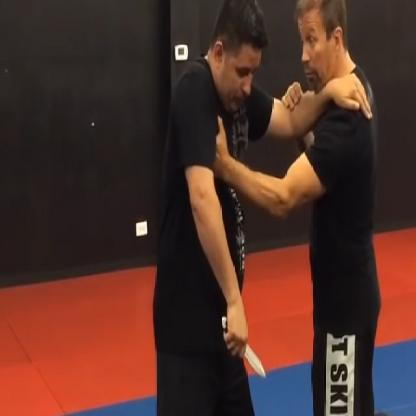knife: (218, 311, 268, 382)
